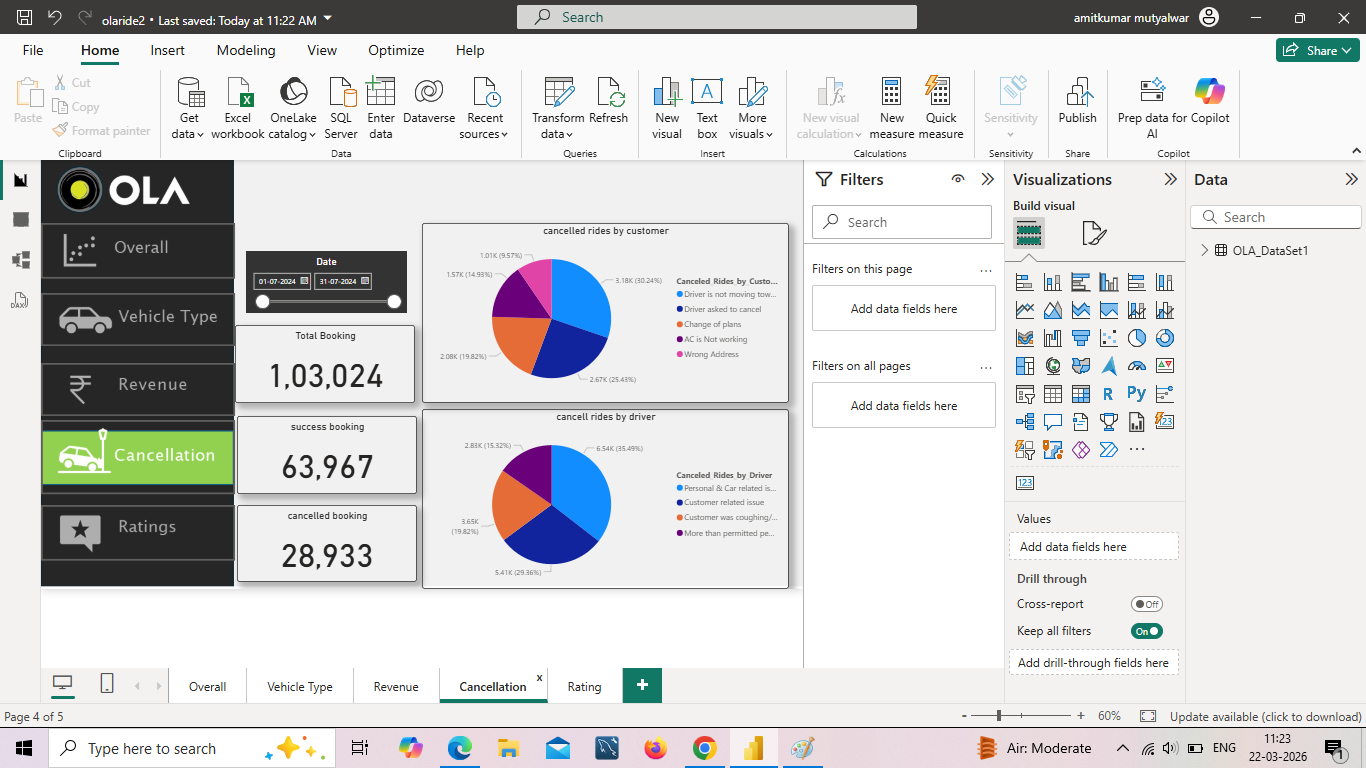

Layout of this report page (visuals, bound fields, positions):
{"tool":"powerbi","page":{"name":"Cancellation","canvas":[1280,720],"ordinal":3},"visuals":[{"type":"actionButton","box":[0,223.9,326,89.3],"z":0},{"type":"actionButton","box":[0,340.2,326,89.3],"z":1000},{"type":"actionButton","box":[0,436.5,326,124.7],"z":2000},{"type":"actionButton","box":[0,579.7,326,93.5],"z":3000},{"type":"actionButton","box":[0,106.3,326,93.5],"z":4000},{"type":"pieChart","title":"cancelled rides by customer","fields":{"Category":["OLA_DataSet1.Canceled_Rides_by_Customer"],"Y":["CountNonNull(OLA_DataSet1.Booking_ID)"],"Series":["OLA_DataSet1.Booking_Status"]},"box":[640,105.8,616.5,302.4],"z":5000},{"type":"pieChart","title":"cancell rides by driver","fields":{"Category":["OLA_DataSet1.Canceled_Rides_by_Driver"],"Series":["OLA_DataSet1.Booking_Status"],"Y":["CountNonNull(OLA_DataSet1.Canceled_Rides_by_Driver)"]},"box":[640,418.3,616.5,302.4],"z":6000},{"type":"slicer","title":"Date","fields":{"Values":["OLA_DataSet1.Date"]},"box":[344.4,152.9,270.4,104.1],"z":7000},{"type":"card","title":"Total Booking","fields":{"Values":["CountNonNull(OLA_DataSet1.Booking_ID)"]},"box":[325.9,277.2,302.4,131],"z":8000},{"type":"card","title":"success booking","fields":{"Values":["CountNonNull(OLA_DataSet1.Booking_ID)"]},"box":[329.2,430,302.4,131],"z":9000},{"type":"card","title":"cancelled booking","fields":{"Values":["CountNonNull(OLA_DataSet1.Booking_ID)"]},"box":[329.2,579.5,302.4,129.3],"z":10000}]}

Visuals, with their boxes on the page's 1280x720 design canvas (x1, y1, x2, y2). These are canvas units, not pixel positions in the 1366x768 screenshot, which may show the page scaled, cropped or inside an application window:
actionButton: crop(0, 224, 326, 313)
actionButton: crop(0, 340, 326, 430)
actionButton: crop(0, 436, 326, 561)
actionButton: crop(0, 580, 326, 673)
actionButton: crop(0, 106, 326, 200)
"cancelled rides by customer" pieChart: crop(640, 106, 1256, 408)
"cancell rides by driver" pieChart: crop(640, 418, 1256, 721)
"Date" slicer: crop(344, 153, 615, 257)
"Total Booking" card: crop(326, 277, 628, 408)
"success booking" card: crop(329, 430, 632, 561)
"cancelled booking" card: crop(329, 580, 632, 709)
